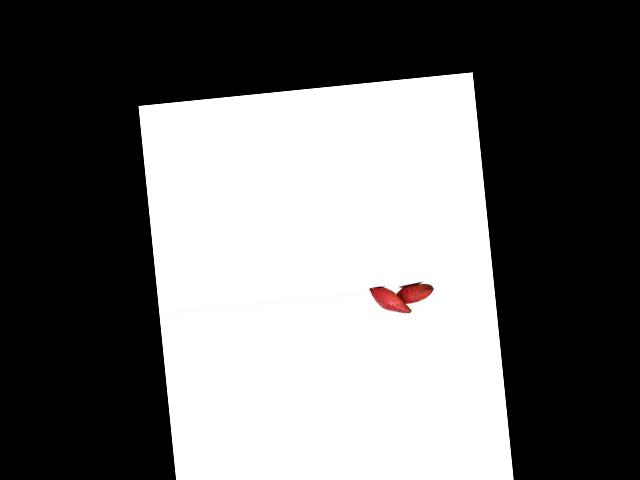sweet_potato: (392, 282, 436, 307)
